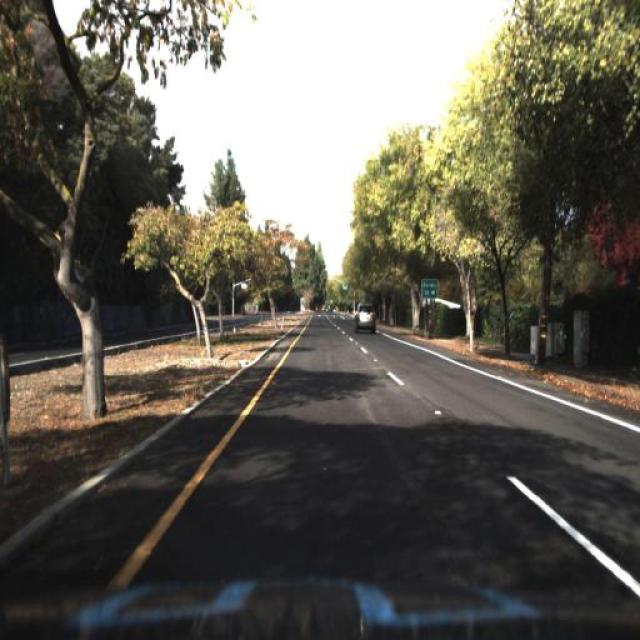car: (353, 302, 378, 334)
